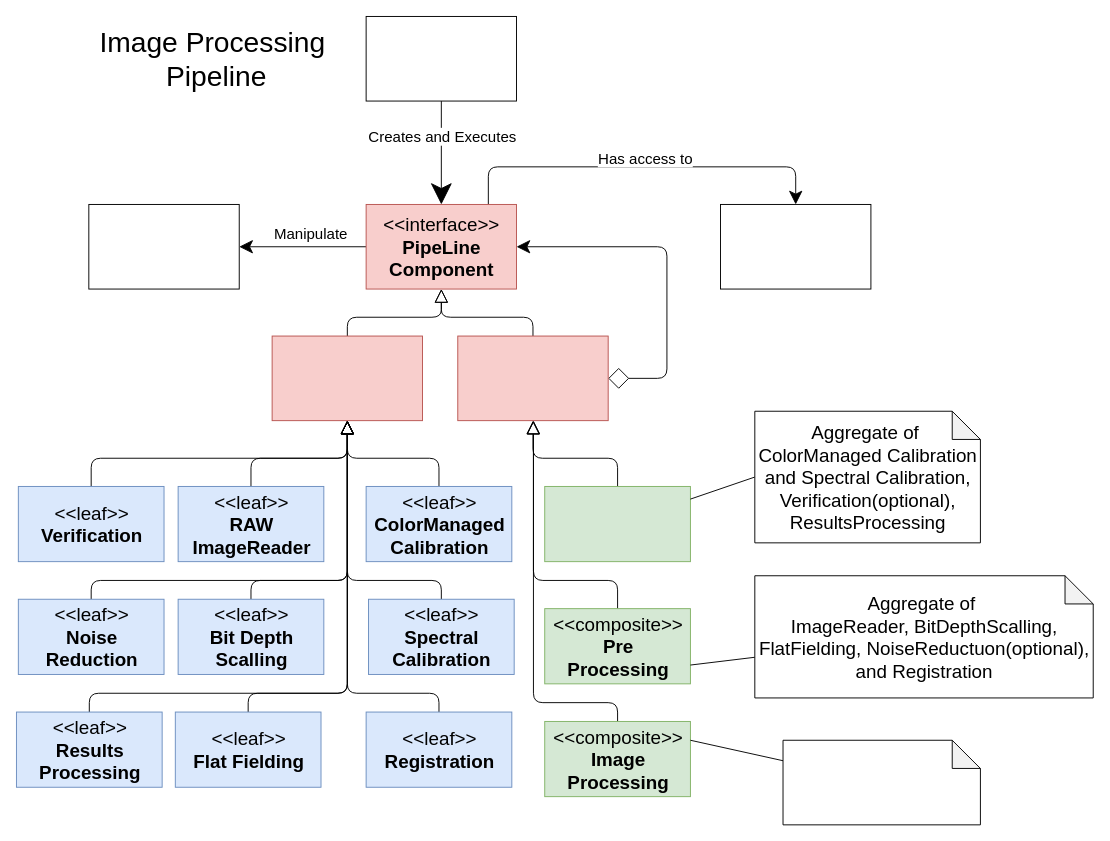
The diagram is 1110 pixels wide and 841 high, and some of its shapes have lost their labels. Here are the shapes that lost their labels. From the top down, the centre of each, then its label:
At point (441, 58): "<<client>> PipeLine Process".
At point (163, 246): "Art Object".
At point (795, 246): "ComsObj".
At point (347, 378): "<<interface>> Leaf Component".
At point (532, 378): "<<interface>> Composite Component".
At point (617, 524): "<<composite>> Calibration".
At point (881, 782): "Aggregate of PreProcessing and Calibration".
